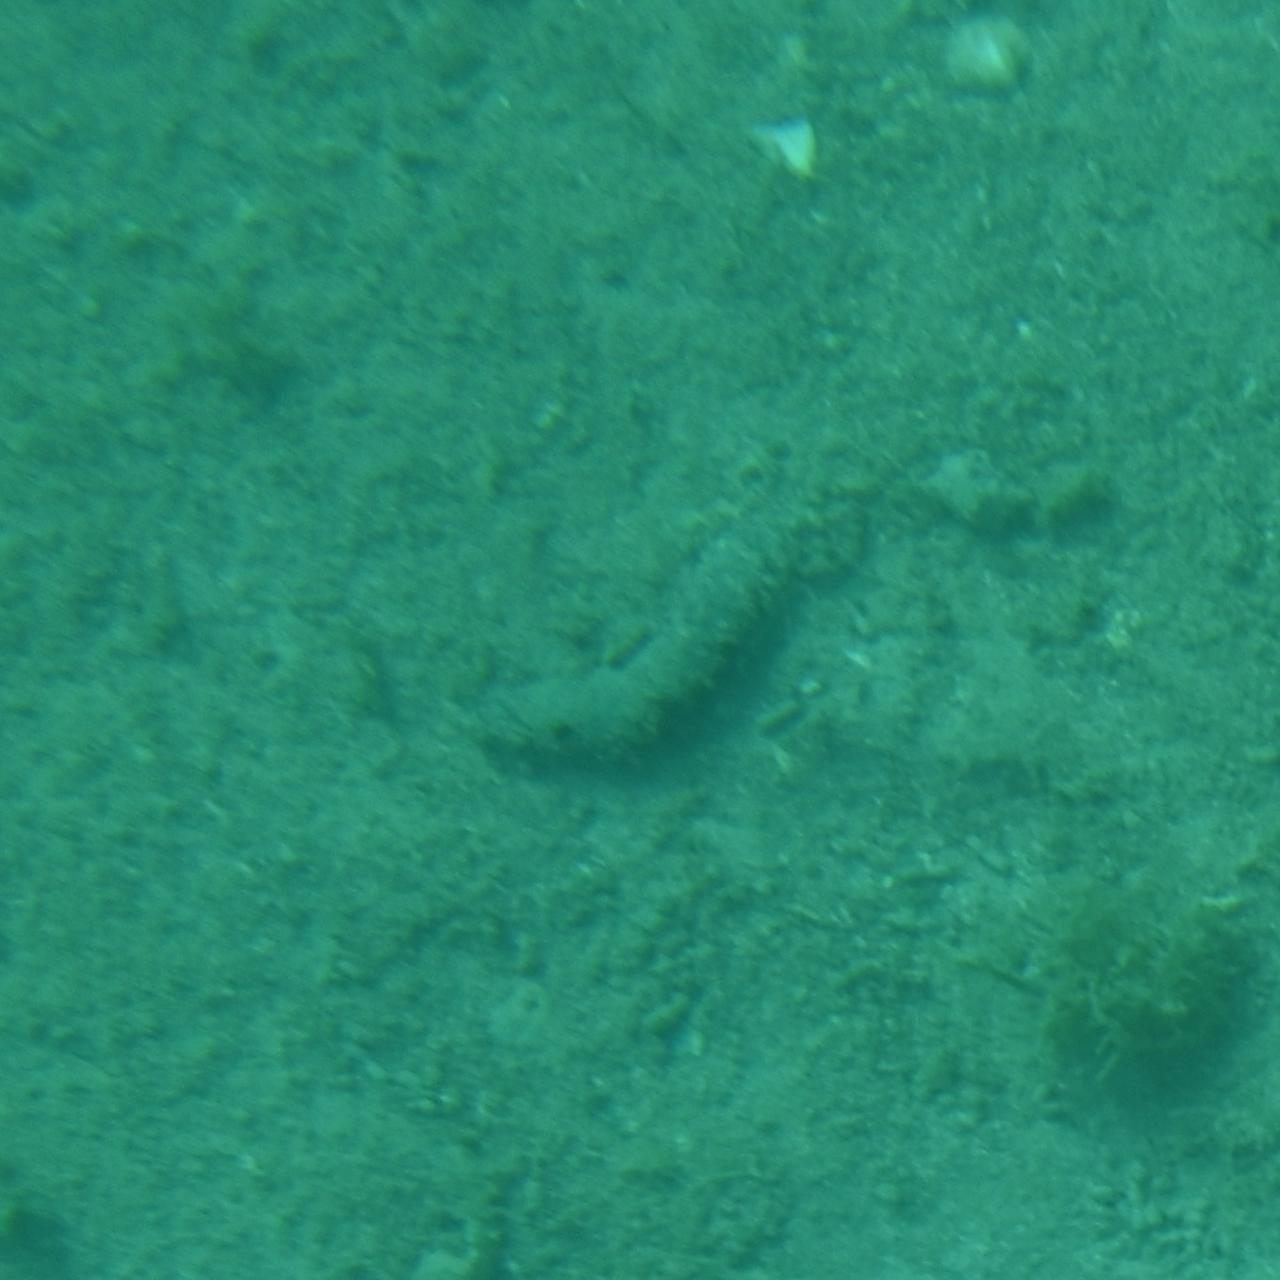Holothuria tubulosa: (480, 508, 800, 772)
